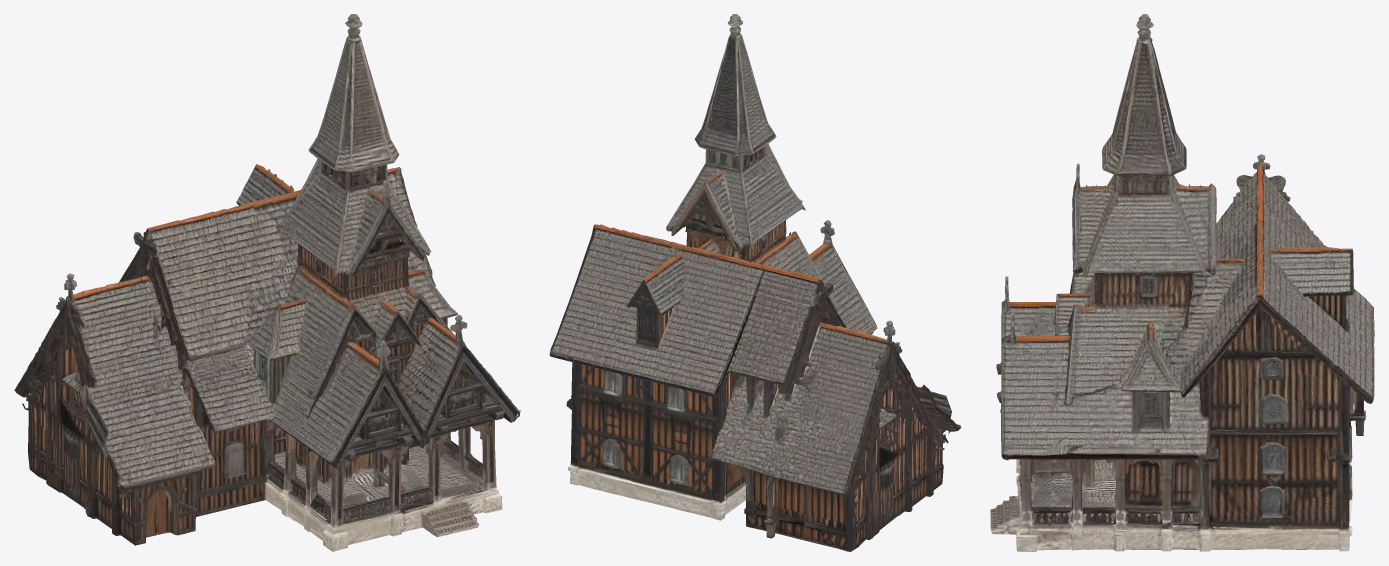
File: stave-church.glb
3 renders of one model, left to right at view 1: azimuth 30°, elevation 25°; view 2: azimuth 150°, elevation 25°; view 3: azimuth 270°, elevation 25°, orthographic. The views are drawn at different scales.
Size of the model in its own units: 1.47 by 1.9 by 1.34.
1 material, 1 textured.
